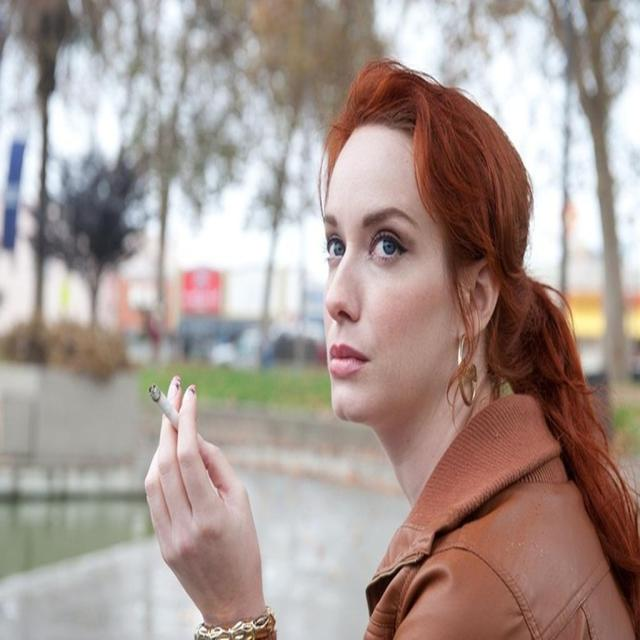smoking: (146, 63, 539, 623)
